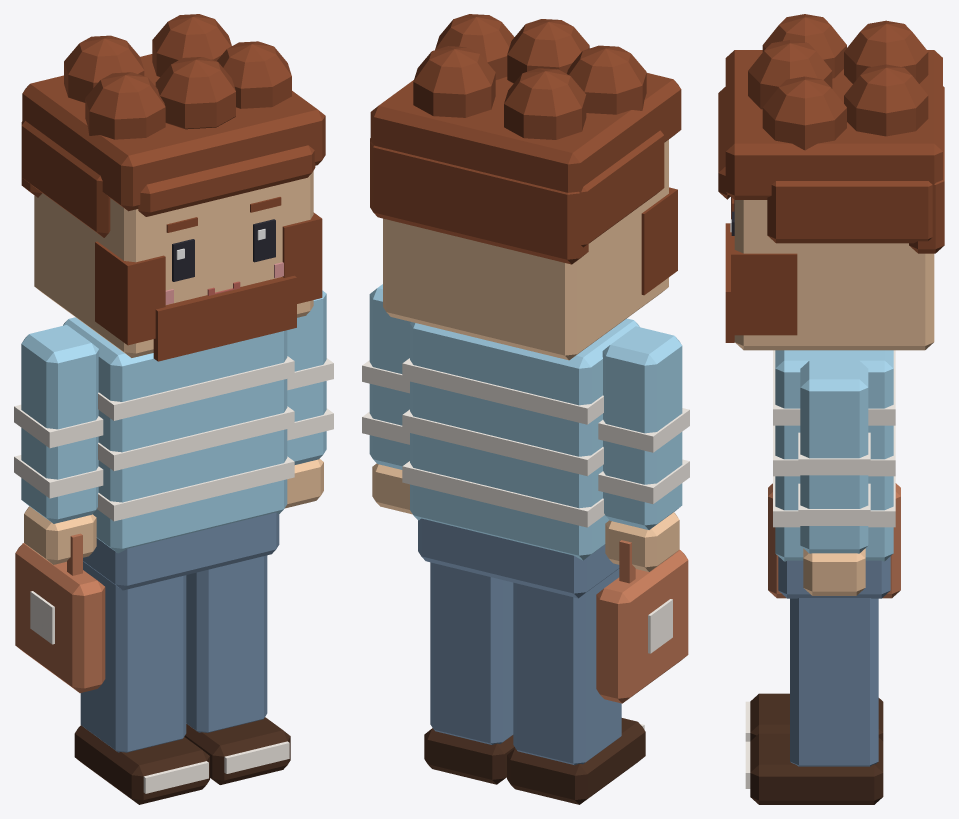
Rendered from CatCafe_NPC_Customer_D.glb.
The picture shows the model from 3 angles, left to right: view 1: azimuth 30°, elevation 25°; view 2: azimuth 150°, elevation 25°; view 3: azimuth 270°, elevation 25°; orthographic projection. The views are drawn at different scales.
Parts seen in each view (by area): view 1: CatCafe_NPC_Customer_D; view 2: CatCafe_NPC_Customer_D; view 3: CatCafe_NPC_Customer_D.
Part boxes in pixels (x1=…): CatCafe_NPC_Customer_D: x1=14, y1=14, x2=333, y2=804; CatCafe_NPC_Customer_D: x1=362, y1=14, x2=689, y2=804; CatCafe_NPC_Customer_D: x1=718, y1=14, x2=944, y2=804.
Bounding box in the file's own units: 2.25 × 5.42 × 1.53.
Materials: 1 (1 with a texture image).
